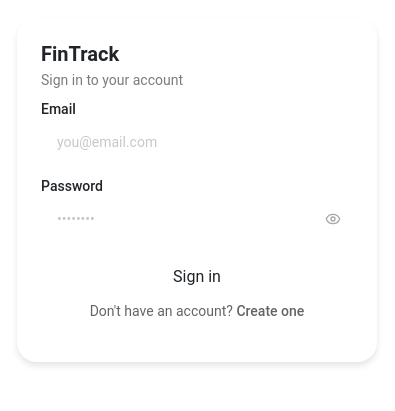
Test case: Login › show message (Invalid email or password.) when login fails.
Step 1. Type "tests@example.com" into the field labelled "Email" → x=197, y=142, box [41, 124, 353, 160]
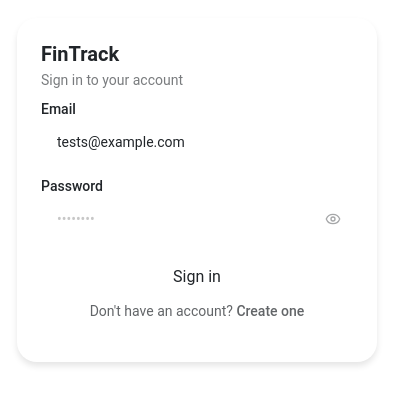
Step 2. Type "password1234" into the password field labelled "Password" → x=197, y=219, box [41, 201, 353, 237]
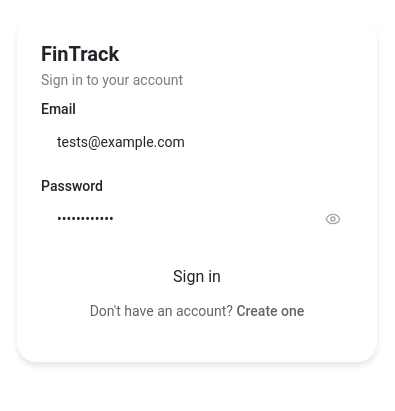
Step 3. Click the button "Sign in" → x=197, y=277, box [41, 257, 353, 297]
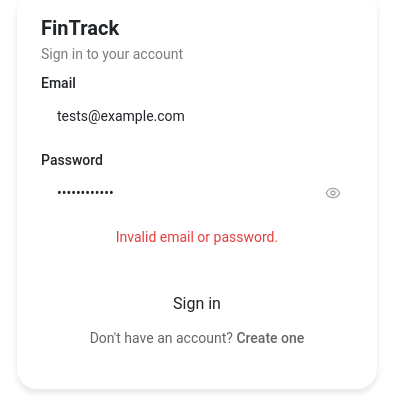
Now the text "Invalid email or password." is shown, box [116, 228, 278, 244]
